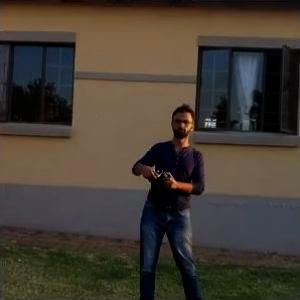follow: (126, 98, 211, 299)
